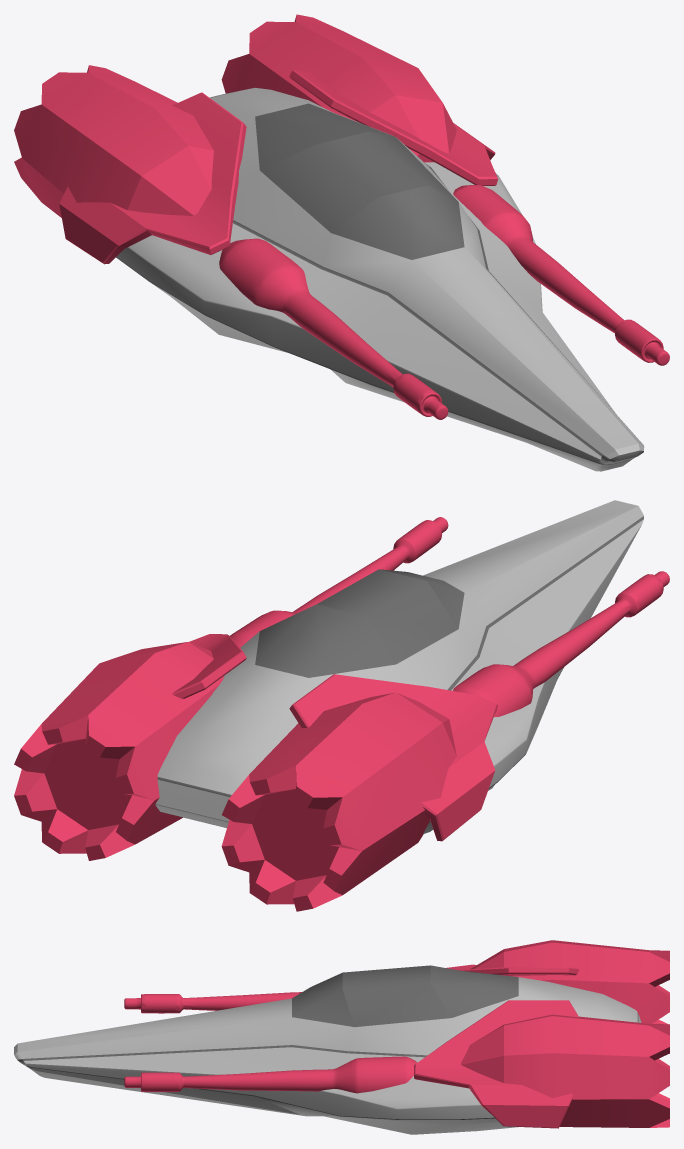
The model's file is Fighter_Unit_V2.fbx.
3 renders of one model, top to bottom at view 1: azimuth 30°, elevation 25°; view 2: azimuth 150°, elevation 25°; view 3: azimuth 270°, elevation 25°, orthographic. The views are drawn at different scales.
Parts seen in each view (by area): view 1: pCube1; view 2: pCube1; view 3: pCube1.
Boxes of the visible parts, x1=… form: pCube1: x1=14, y1=14, x2=669, y2=471; pCube1: x1=14, y1=500, x2=669, y2=911; pCube1: x1=14, y1=940, x2=669, y2=1134.
Size of the model in its own units: 13.68 by 5.96 by 28.25.
